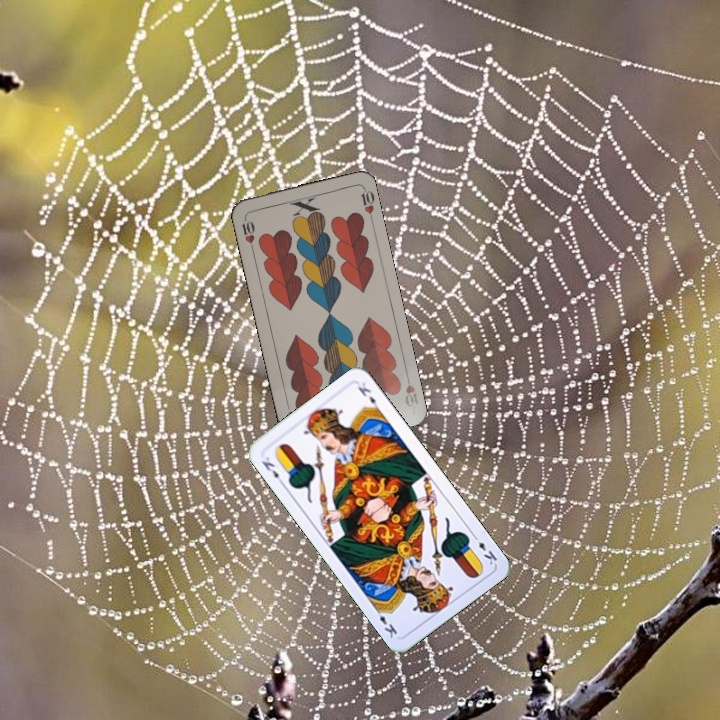EK: (469, 530, 500, 568), (257, 452, 287, 488)
H10: (237, 212, 257, 253), (401, 369, 421, 410)
